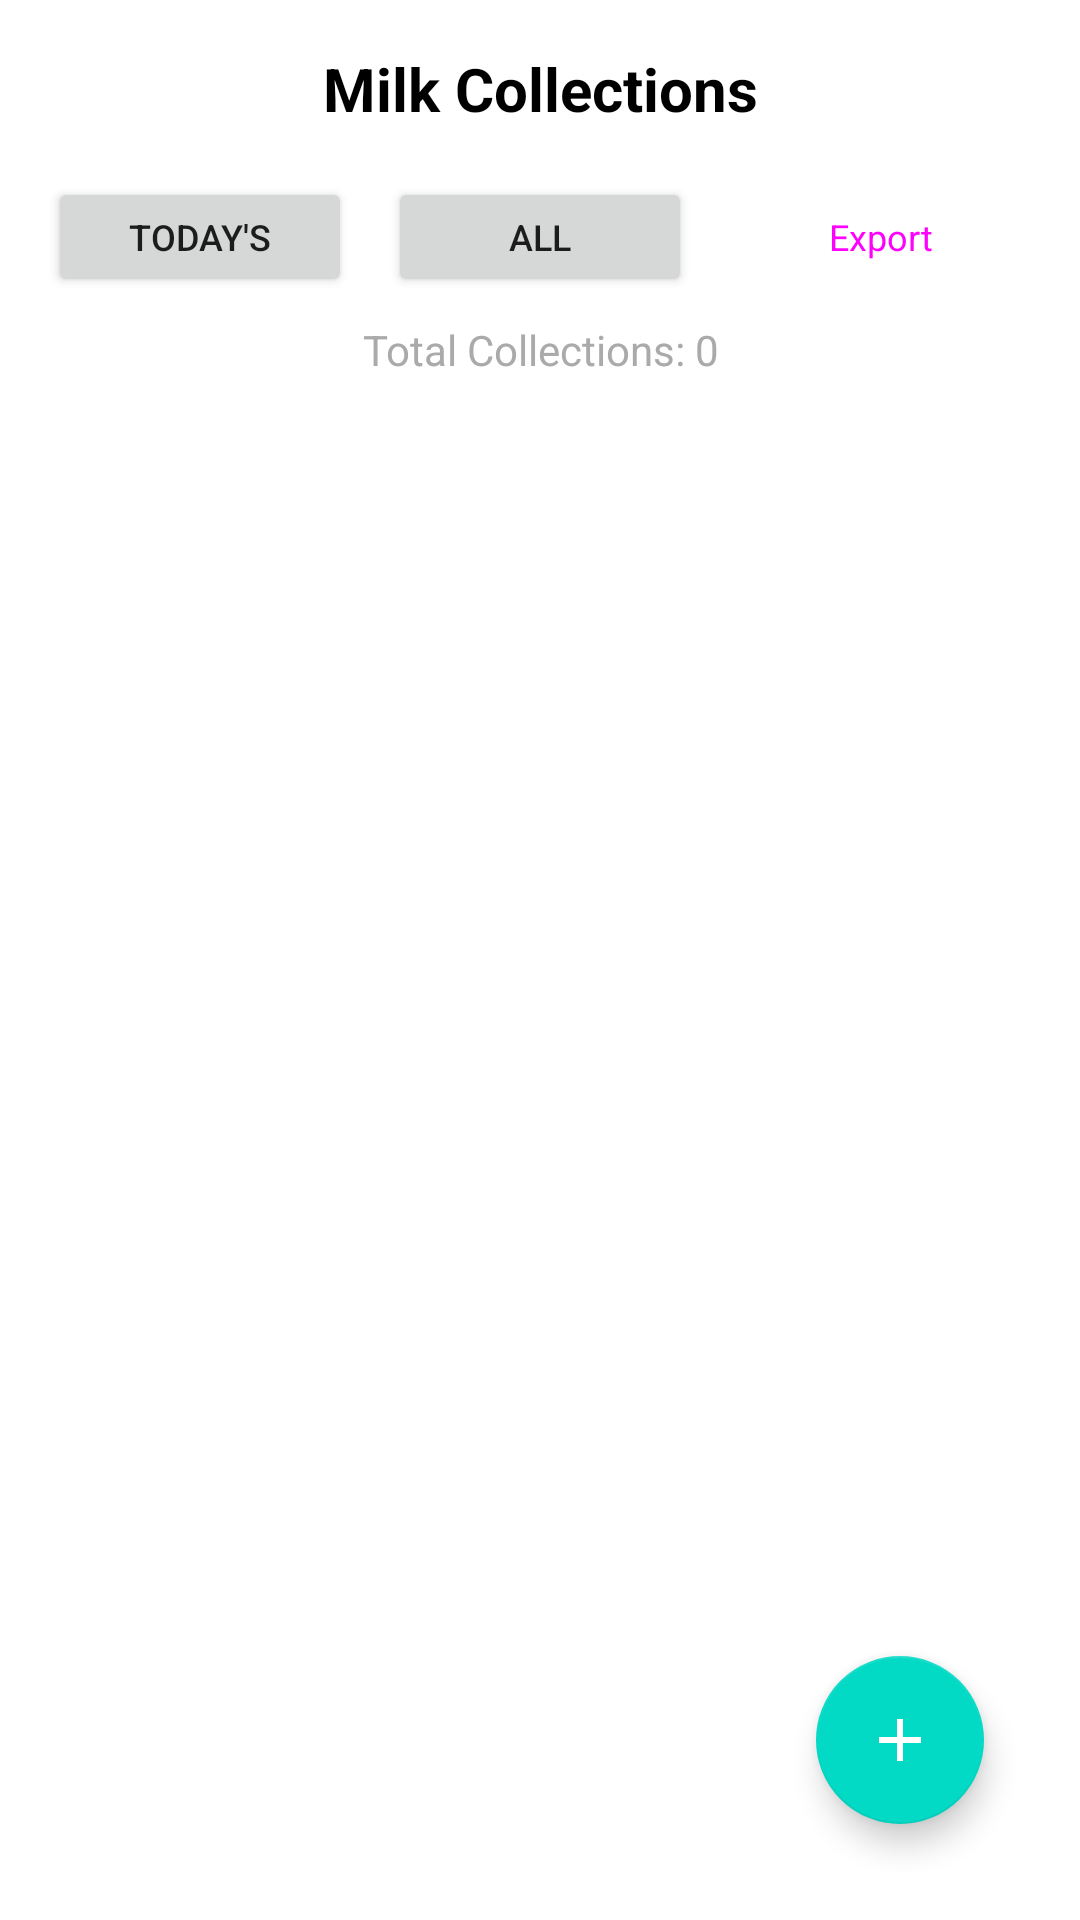

Point at icon controls on the screen. Image size 1080x1920, points as [x,y].
Add Collection: [900,1740]
